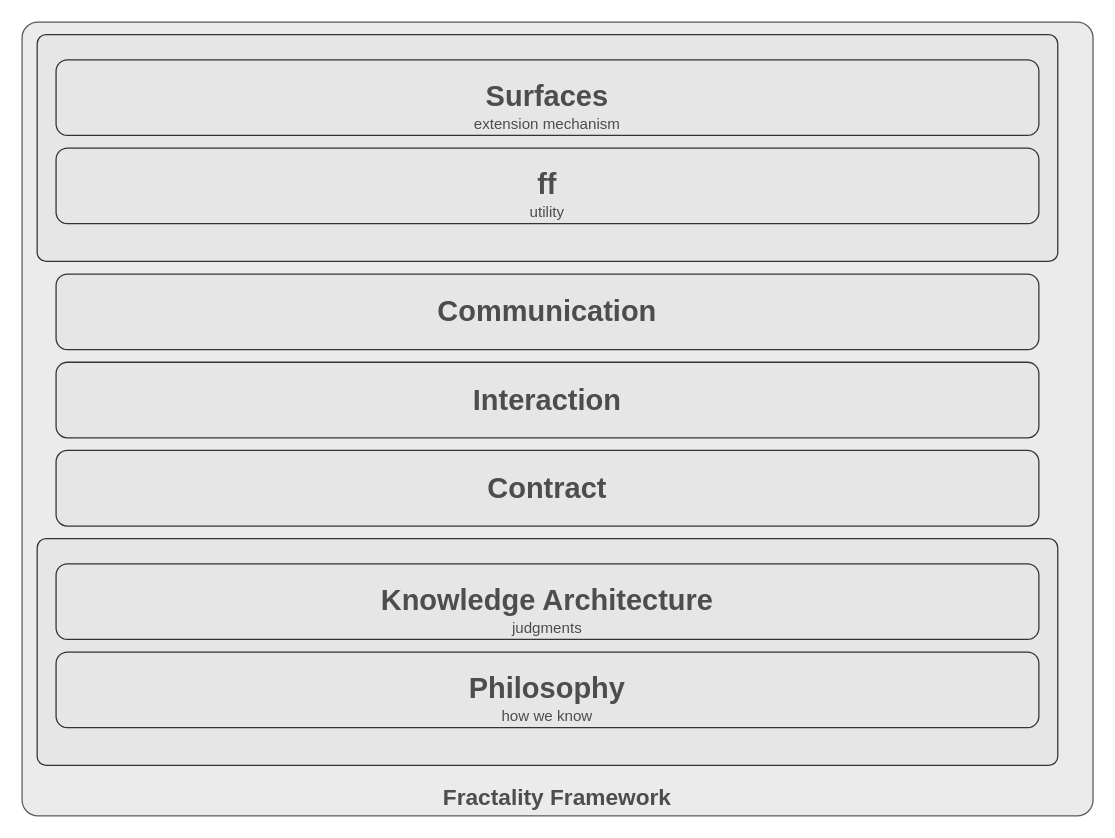
The diagram is 1115 pixels wide and 838 high, and some of its shapes have lost their labels. The shapes that lost their labels are listed below. From the top down, each one's box as (x1, y1, x2, y2) in pixels, then its label:
(36, 33, 1058, 261): implementation
(36, 537, 1058, 765): foundation
